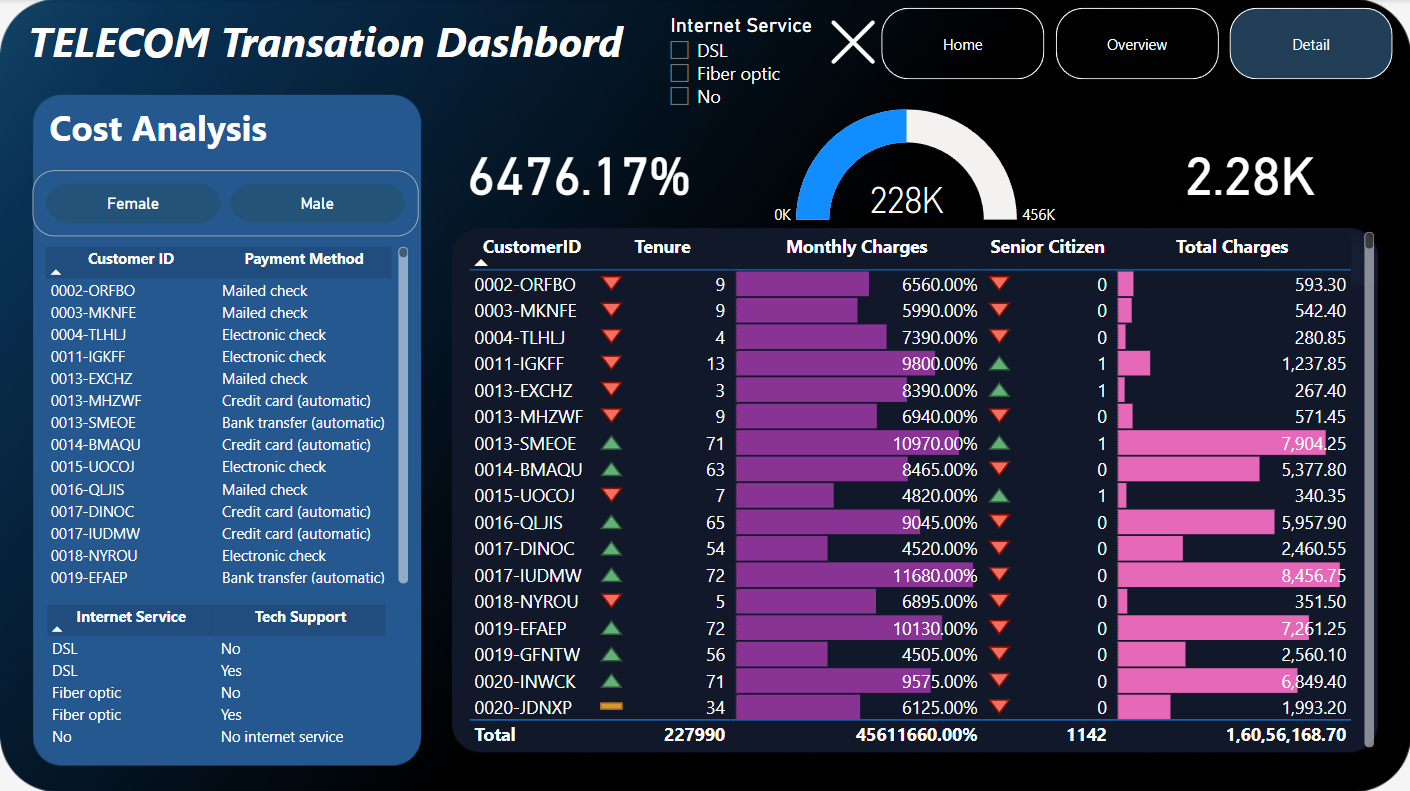

This screenshot's page, from the dashboard's own definition file:
{"tool":"powerbi","page":{"name":"Detail","canvas":[1280,720],"ordinal":2},"visuals":[{"type":"pageNavigator","box":[800,8.1,465,65],"z":0},{"type":"tableEx","fields":{"Values":["WA_Fn-UseC_-Telco-Customer-Churn.CustomerID","Sum(WA_Fn-UseC_-Telco-Customer-Churn.tenure)","Sum(WA_Fn-UseC_-Telco-Customer-Churn.MonthlyCharges)","Sum(WA_Fn-UseC_-Telco-Customer-Churn.SeniorCitizen)","Sum(WA_Fn-UseC_-Telco-Customer-Churn.TotalCharges)"]},"box":[419.7,206.4,832.5,477.5],"z":1000},{"type":"tableEx","fields":{"Values":["WA_Fn-UseC_-Telco-Customer-Churn.CustomerID","WA_Fn-UseC_-Telco-Customer-Churn.PaymentMethod"]},"box":[35,220.2,340,315],"z":2000},{"type":"tableEx","fields":{"Values":["WA_Fn-UseC_-Telco-Customer-Churn.InternetService","WA_Fn-UseC_-Telco-Customer-Churn.TechSupport"]},"box":[36.1,544.3,340,140],"z":3000},{"type":"advancedSlicerVisual","fields":{"Values":["WA_Fn-UseC_-Telco-Customer-Churn.gender"]},"box":[29,155,350,60],"z":4000},{"type":"textbox","box":[20,8,560,60],"z":5000},{"type":"textbox","box":[40,90,300,55],"z":6000},{"type":"image","box":[750,15,49,49],"z":9000},{"type":"gauge","fields":{"Y":["Sum(WA_Fn-UseC_-Telco-Customer-Churn.tenure)"]},"box":[638,94.8,385,115.2],"z":10000},{"type":"card","fields":{"Values":["Avg(WA_Fn-UseC_-Telco-Customer-Churn.MonthlyCharges)"]},"box":[415,105,220.2,100.5],"z":11000},{"type":"card","fields":{"Values":["Avg(WA_Fn-UseC_-Telco-Customer-Churn.TotalCharges)"]},"box":[1024.1,105,220.2,100.5],"z":12000}]}

Visuals, with their boxes in screenshot pixels (x1, y1, x2, y2), scaled from the page's 1280x720 canvas onto the 1410x791 screenshot:
pageNavigator: bbox=[881, 9, 1393, 80]
tableEx - WA_Fn-UseC_-Telco-Customer-Churn.CustomerID x Sum(WA_Fn-UseC_-Telco-Customer-Churn.tenure): bbox=[462, 227, 1379, 751]
tableEx - WA_Fn-UseC_-Telco-Customer-Churn.CustomerID x WA_Fn-UseC_-Telco-Customer-Churn.PaymentMethod: bbox=[39, 242, 413, 588]
tableEx - WA_Fn-UseC_-Telco-Customer-Churn.InternetService x WA_Fn-UseC_-Telco-Customer-Churn.TechSupport: bbox=[40, 598, 414, 752]
advancedSlicerVisual - WA_Fn-UseC_-Telco-Customer-Churn.gender: bbox=[32, 170, 417, 236]
textbox: bbox=[22, 9, 639, 75]
textbox: bbox=[44, 99, 375, 159]
image: bbox=[826, 16, 880, 70]
gauge - Sum(WA_Fn-UseC_-Telco-Customer-Churn.tenure): bbox=[703, 104, 1127, 231]
card - Avg(WA_Fn-UseC_-Telco-Customer-Churn.MonthlyCharges): bbox=[457, 115, 700, 226]
card - Avg(WA_Fn-UseC_-Telco-Customer-Churn.TotalCharges): bbox=[1128, 115, 1371, 226]
